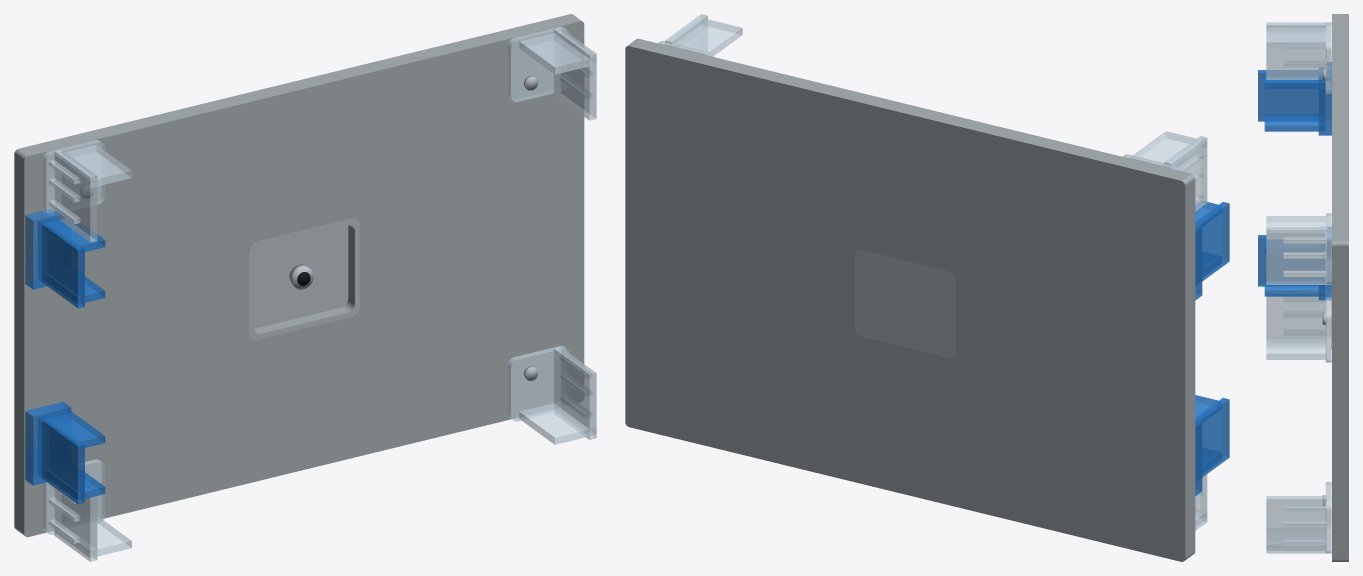
The model's file is deck_insert.obj.
3 renders of one model, left to right at view 1: azimuth 30°, elevation 25°; view 2: azimuth 150°, elevation 25°; view 3: azimuth 270°, elevation 25°, orthographic. The views are drawn at different scales.
Visible parts, largest first — view 1: deck_insert_0, deck_insert_1, deck_insert_19, deck_insert_26, deck_insert_20, deck_insert_34, deck_insert_38, deck_insert_13, deck_insert_27, deck_insert_12, deck_insert_2, deck_insert_6 (+11 smaller); view 2: deck_insert_0, deck_insert_1, deck_insert_38, deck_insert_34, deck_insert_28, deck_insert_14, deck_insert_13, deck_insert_27; view 3: deck_insert_0, deck_insert_27, deck_insert_20, deck_insert_13, deck_insert_6, deck_insert_38, deck_insert_34, deck_insert_14, deck_insert_7, deck_insert_28, deck_insert_39, deck_insert_21 (+19 smaller).
Boxes of the visible parts, x1,y1,x2,y2 form: deck_insert_0: (14,14,584,537); deck_insert_1: (254,225,348,328); deck_insert_19: (507,346,569,421); deck_insert_26: (507,26,569,102); deck_insert_20: (553,347,596,439); deck_insert_34: (38,416,84,504); deck_insert_38: (38,220,84,308); deck_insert_13: (54,149,97,242); deck_insert_27: (553,27,596,120); deck_insert_12: (42,140,105,215); deck_insert_2: (249,218,359,339); deck_insert_6: (54,488,97,561); deck_insert_0: (625,38,1195,561); deck_insert_1: (855,249,955,358); deck_insert_38: (1195,202,1229,281); deck_insert_34: (1195,398,1229,477); deck_insert_28: (669,18,742,55); deck_insert_14: (1130,131,1207,168); deck_insert_13: (1164,136,1207,211); deck_insert_27: (665,14,707,51); deck_insert_0: (1332,14,1348,561); deck_insert_27: (1266,227,1326,284); deck_insert_20: (1266,496,1326,553); deck_insert_13: (1266,22,1326,79); deck_insert_6: (1266,291,1326,347); deck_insert_38: (1258,70,1324,121); deck_insert_34: (1258,235,1318,286); deck_insert_14: (1266,25,1326,48); deck_insert_7: (1266,337,1326,359); deck_insert_28: (1266,216,1326,239); deck_insert_39: (1264,114,1325,131); deck_insert_21: (1266,528,1326,550).
Size of the model in its own units: 0.1615 by 0.106 by 0.027.
